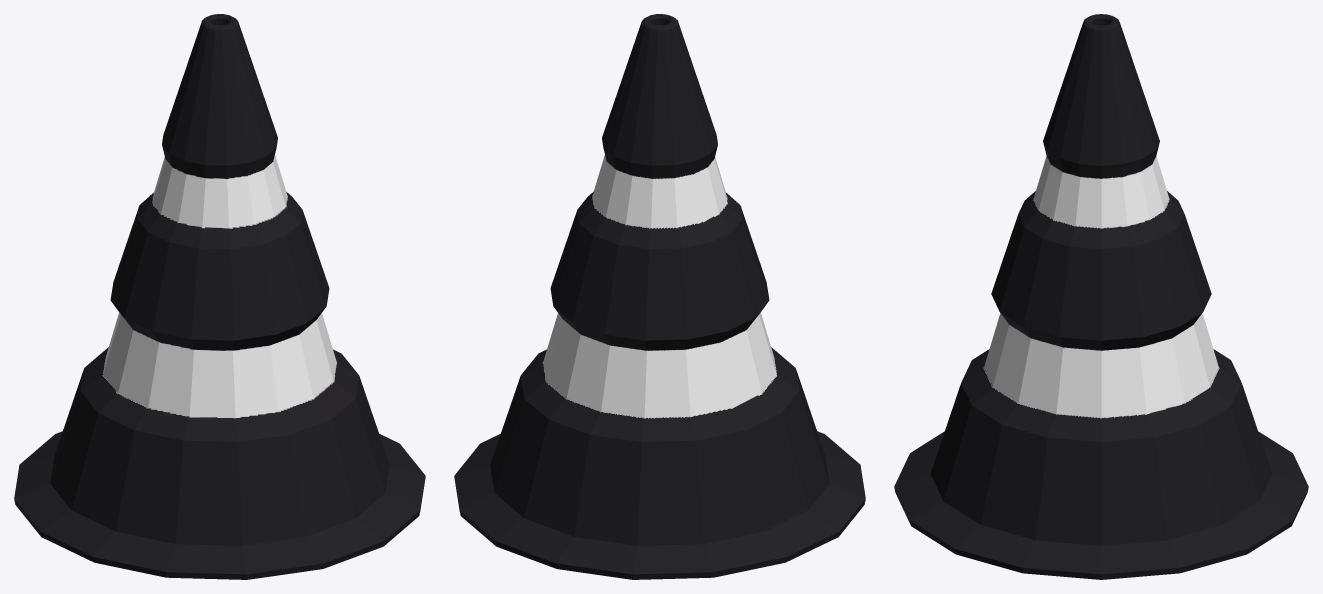
Rendered from ConeLowPoly.fbx.
3 renders of one model, left to right at view 1: azimuth 30°, elevation 25°; view 2: azimuth 150°, elevation 25°; view 3: azimuth 270°, elevation 25°, orthographic.
Parts seen in each view (by area): view 1: Cone; view 2: Cone; view 3: Cone.
Part boxes in pixels (<box>): Cone: <box>14,14,425,579</box>; Cone: <box>454,14,865,579</box>; Cone: <box>894,14,1308,579</box>.
Size of the model in its own units: 159 by 200 by 159.
Materials: 1 (1 with a texture image).
